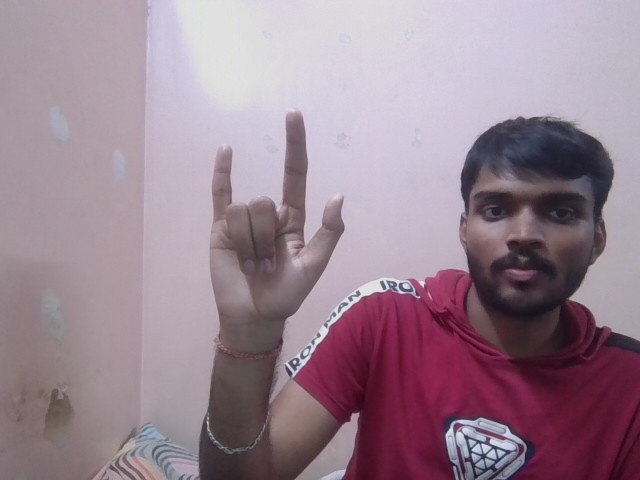I Love You: (197, 106, 347, 326)
